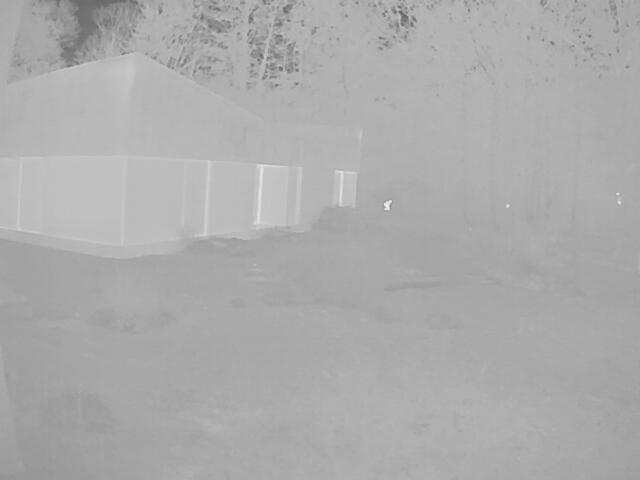person: (381, 198, 395, 213)
